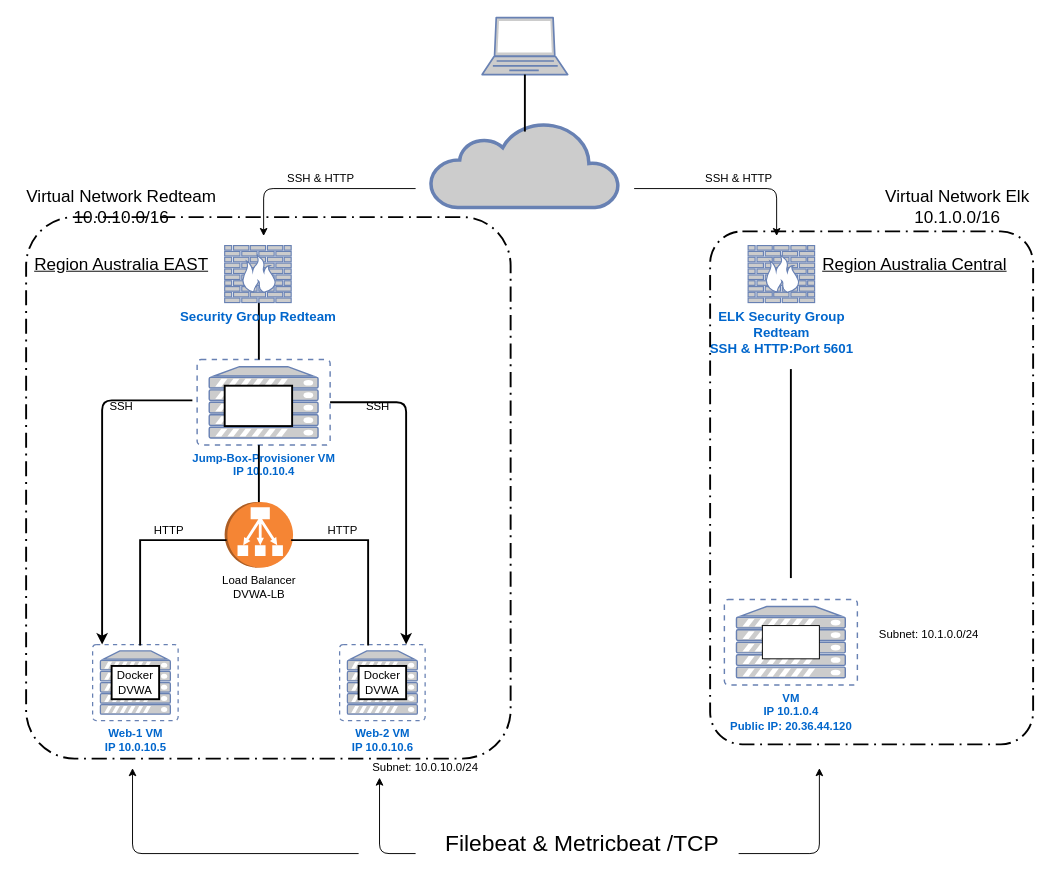
Image size: 1054x878. Some labels were removed from this diagram. Each missing label, with the centre of its shape:
Docker Ansible: point 258,405
Docker ELK: point 790,642
Internet: point 524,164
My Laptop: point 524,45
